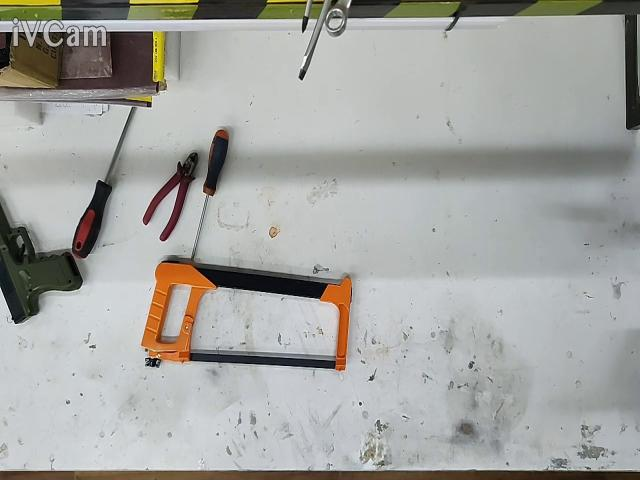Backsaw: (142, 260, 352, 368)
Cutting pliers: (144, 153, 199, 241)
Gun: (0, 203, 82, 323)
Screwdriver: (72, 106, 136, 258), (191, 128, 229, 259)
Wrench: (325, 0, 351, 36)
